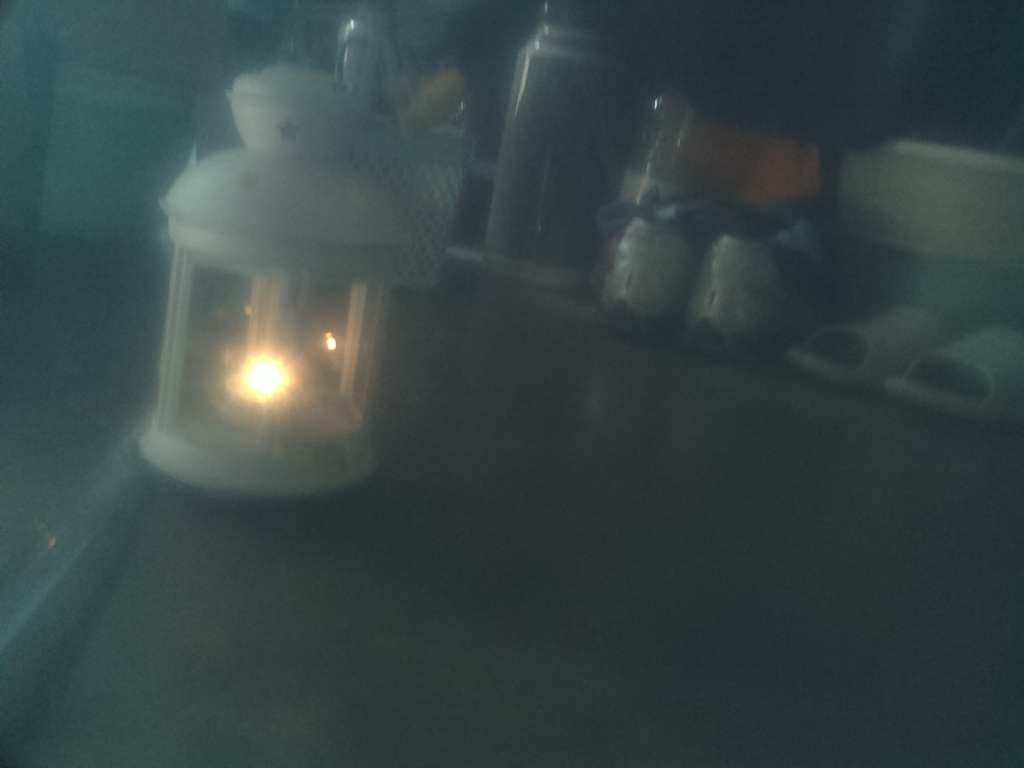fire: (204, 338, 321, 422)
